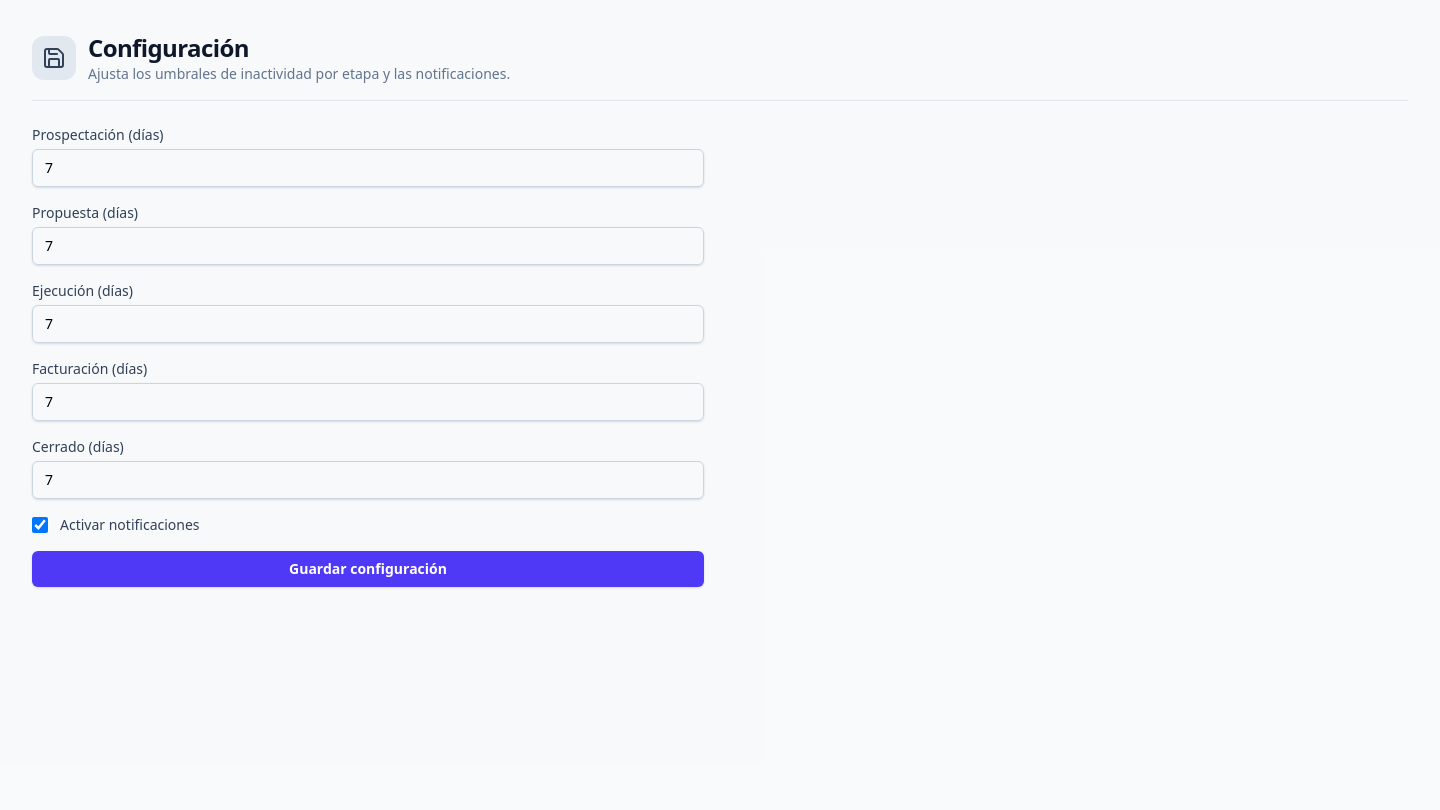
Test case: Página /settings (GET/PUT /api/settings) › envía PUT /api/settings con los umbrales actualizados y muestra confirmación
Replace the text in the number field labelled "Prospectación (días)" with "14" at (368, 168), box [32,149,704,187]
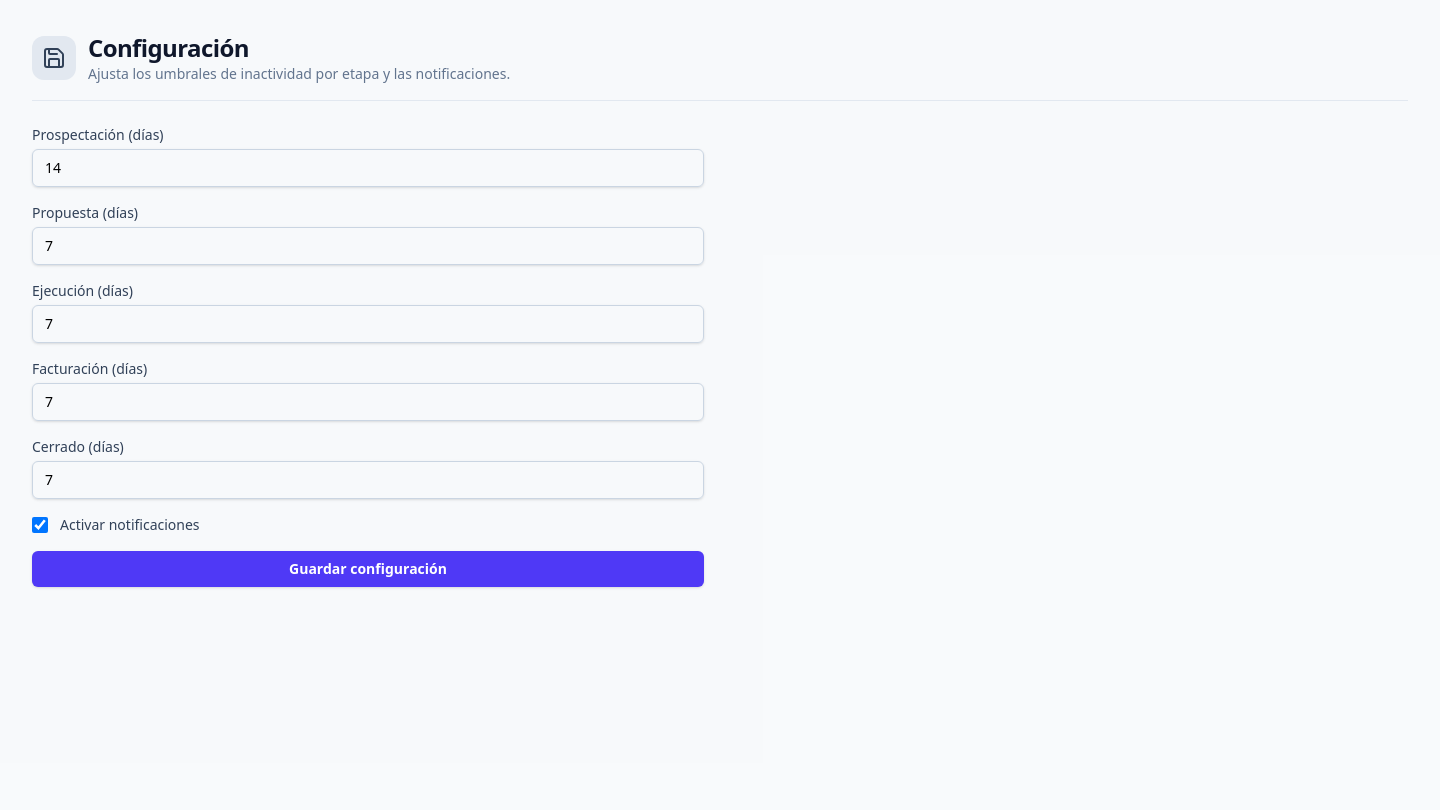
Click the button "Guardar configuración" at (368, 569), box [32,551,704,587]
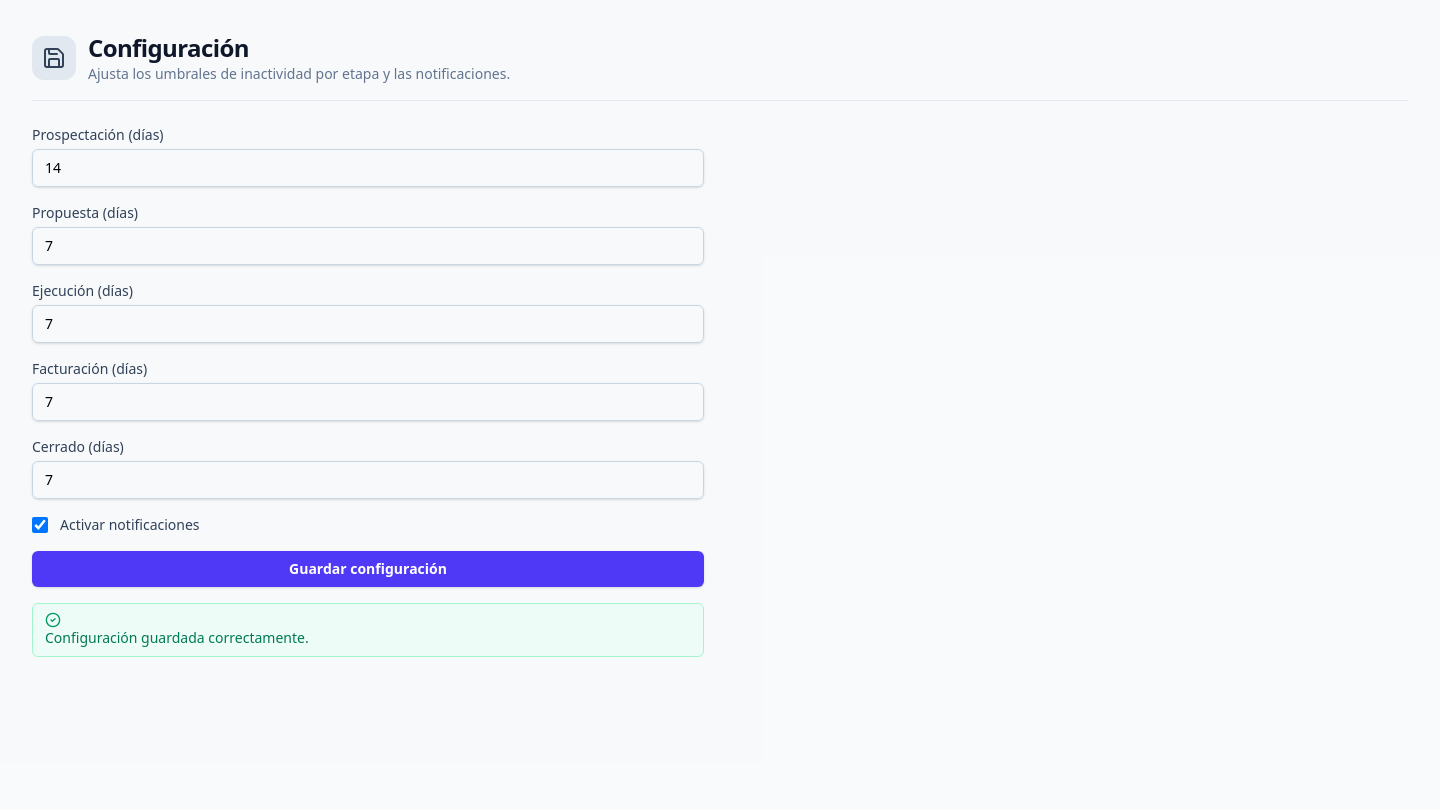
Expected: the text "Configuración guardada correctamente." is shown, [32,603,704,657]
